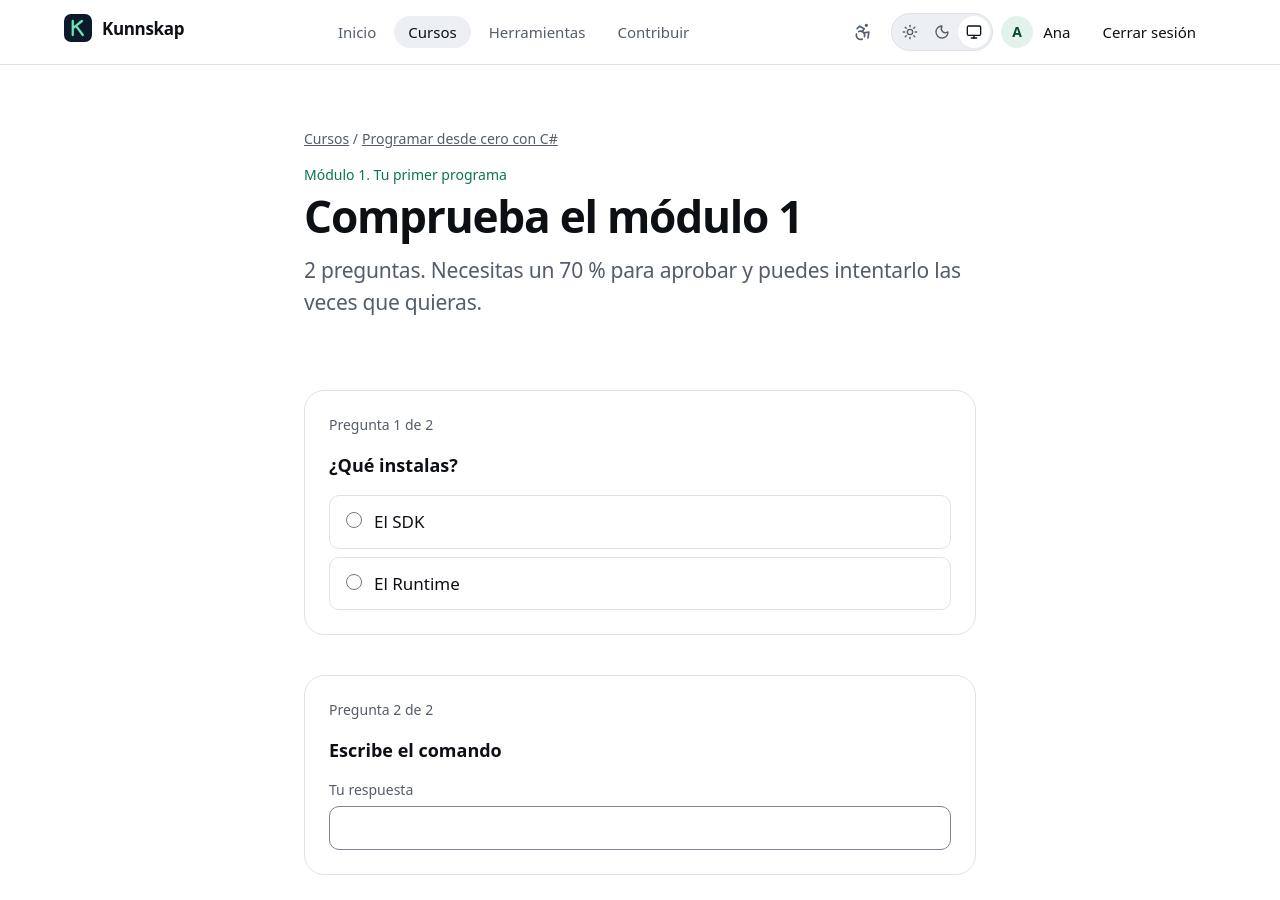
cuestionario › al suspender muestra la nota, las pistas y la lección para repasar, sin las soluciones
Step 1. Click the radio button labelled "El SDK" → (354, 520), box [346,512,362,528]
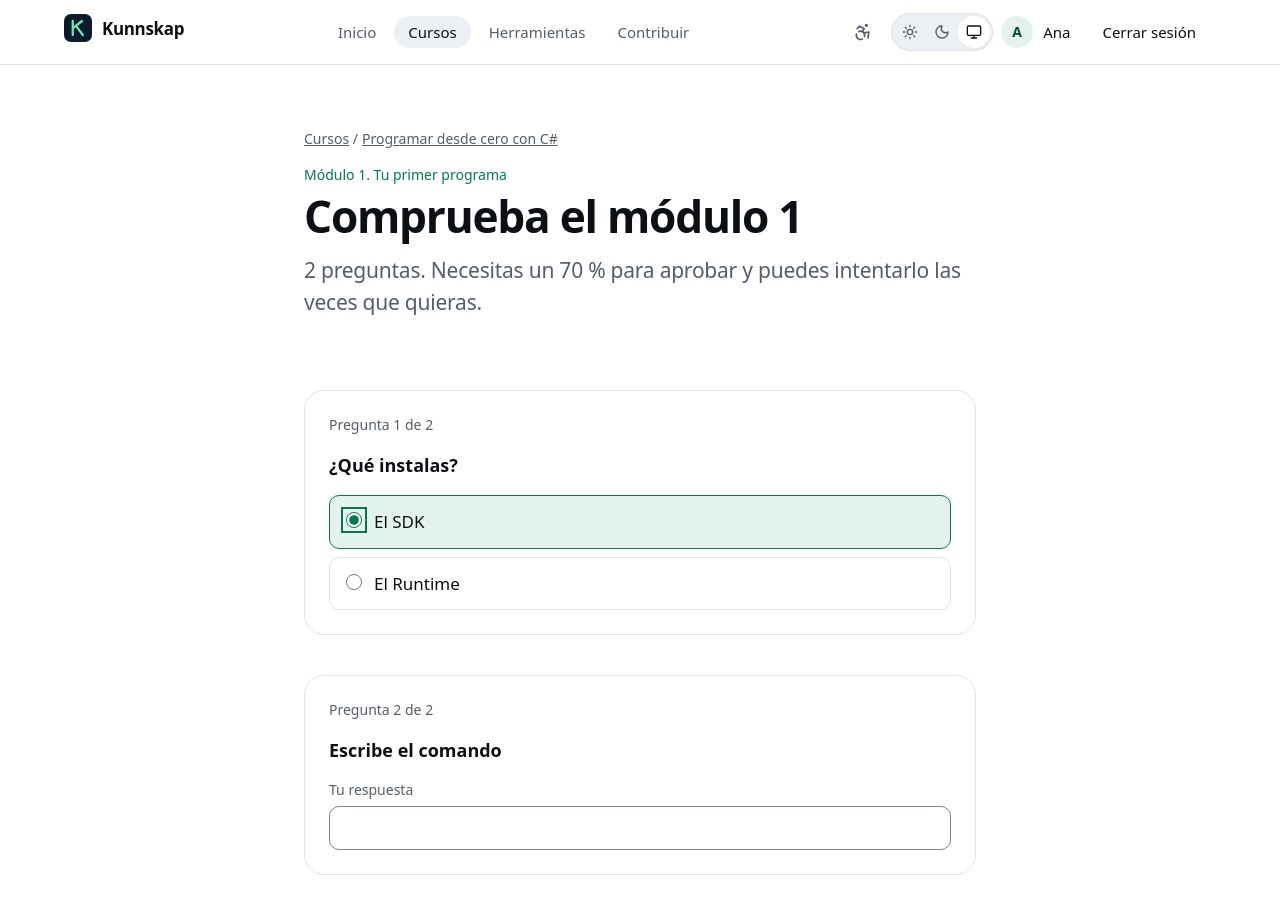
Step 2. Type "dotnet hola" into the field labelled "Tu respuesta" → (640, 828), box [329,806,951,850]
(page scrolled)
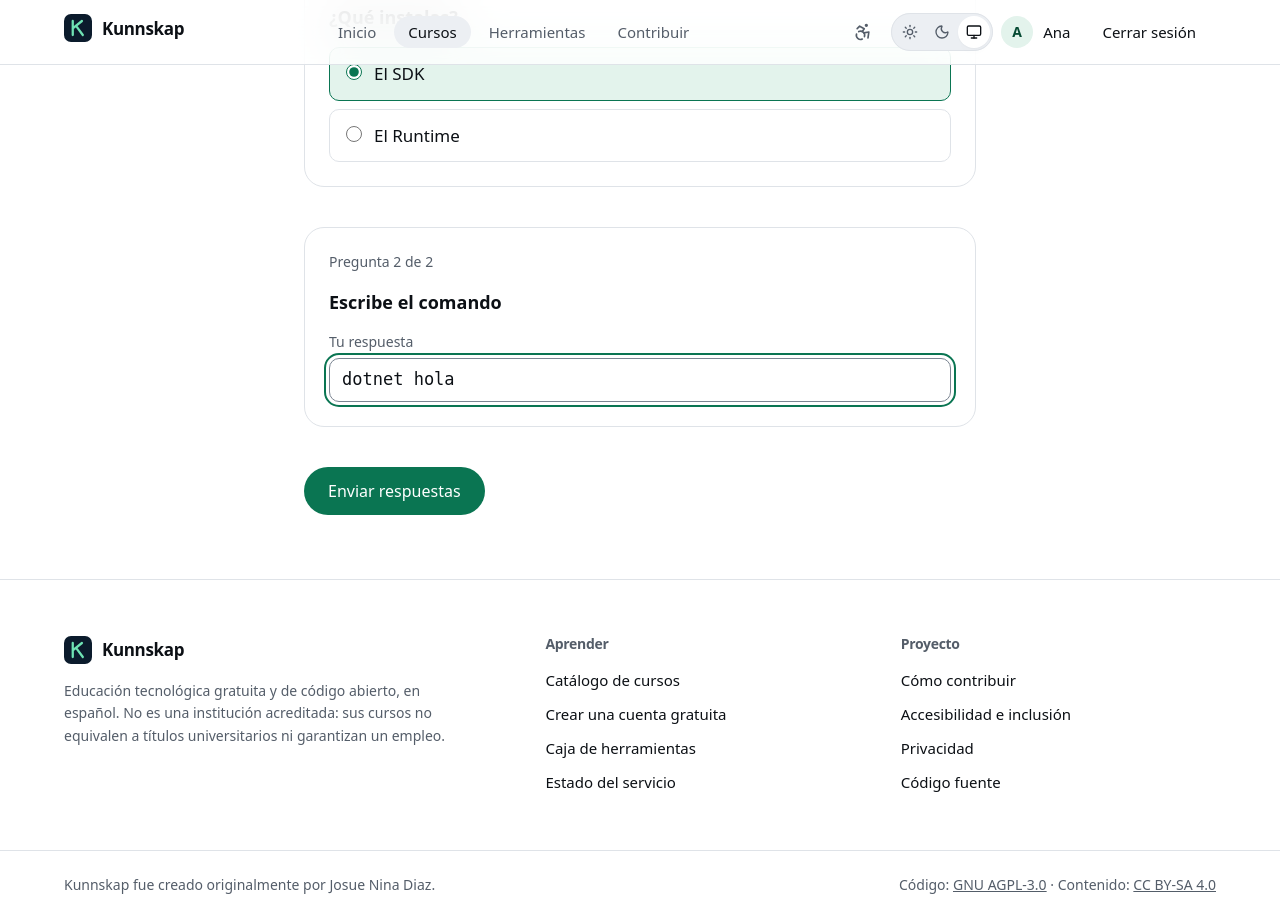
Step 3. Click the button "Enviar respuestas" → (394, 491), box [304,467,485,515]
(page scrolled)
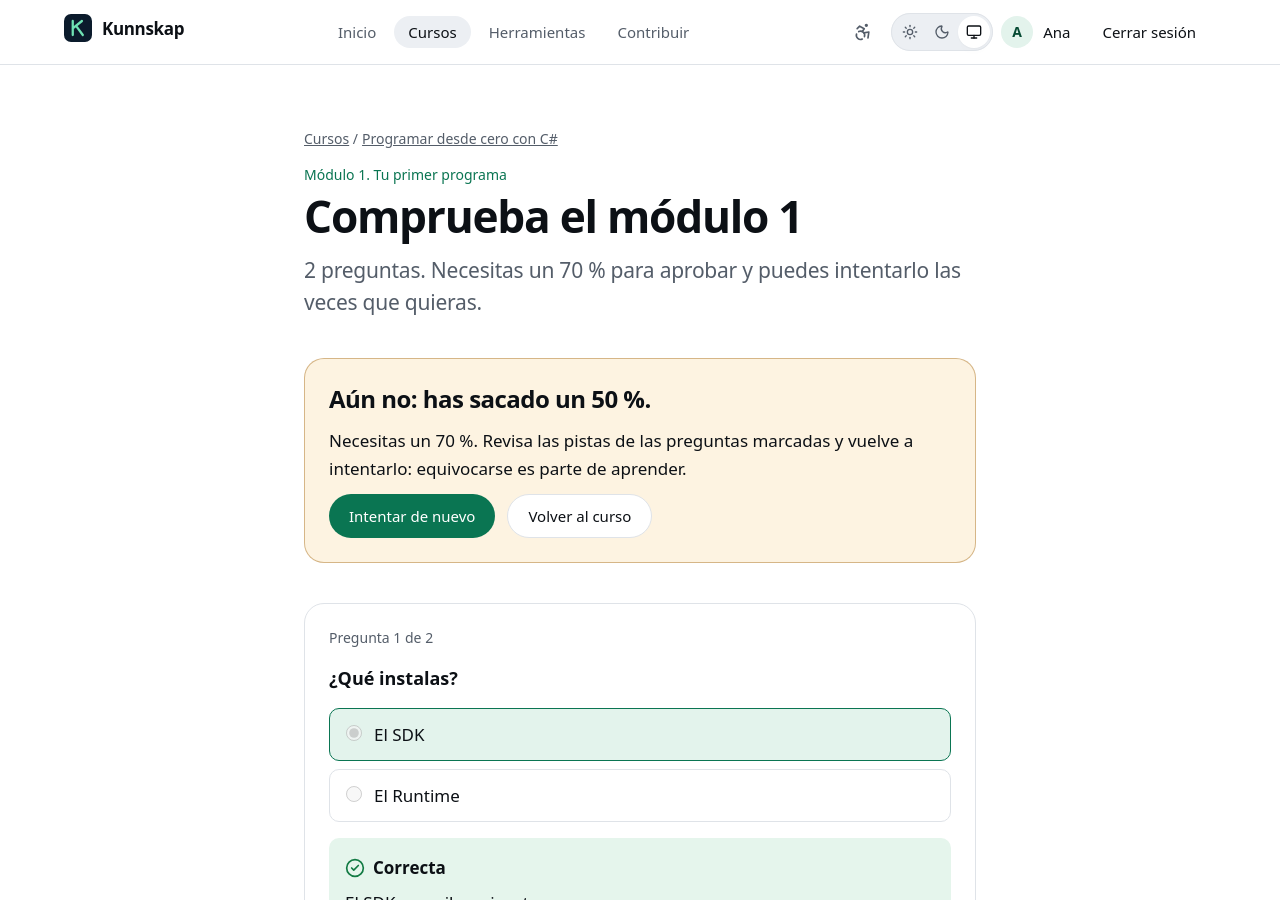
Expected: the text "Correcta" is shown, [345,856,446,879]
Expected: the button "Intentar de nuevo" is shown, [329,494,495,538]
